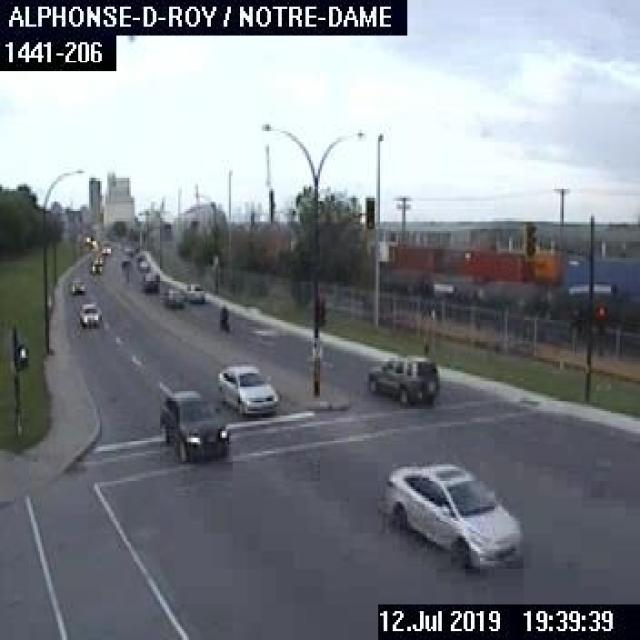pedestrian: (216, 303, 232, 337)
vehicle: (380, 460, 522, 571), (152, 387, 230, 465), (362, 351, 434, 407), (213, 360, 280, 420), (76, 298, 100, 326), (180, 280, 204, 304), (139, 269, 162, 294), (159, 286, 182, 306), (68, 277, 87, 293), (87, 259, 102, 275), (98, 242, 112, 255)
